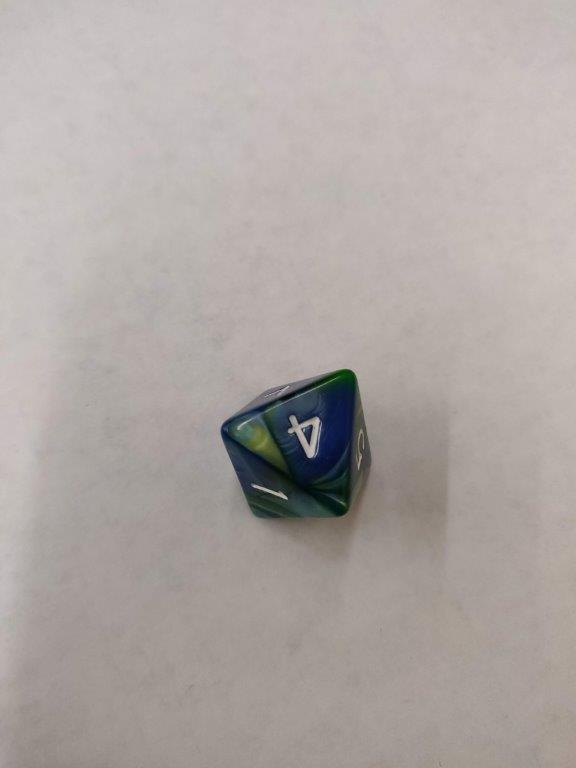d8-4: (220, 369, 373, 520)
